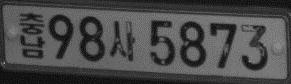3: (241, 23, 268, 71)
5: (149, 19, 175, 66)
7: (209, 22, 237, 68)
8: (179, 20, 206, 67), (79, 15, 105, 62)
9: (48, 13, 74, 59)
사: (109, 20, 135, 61)
충남_V: (19, 12, 45, 58)
